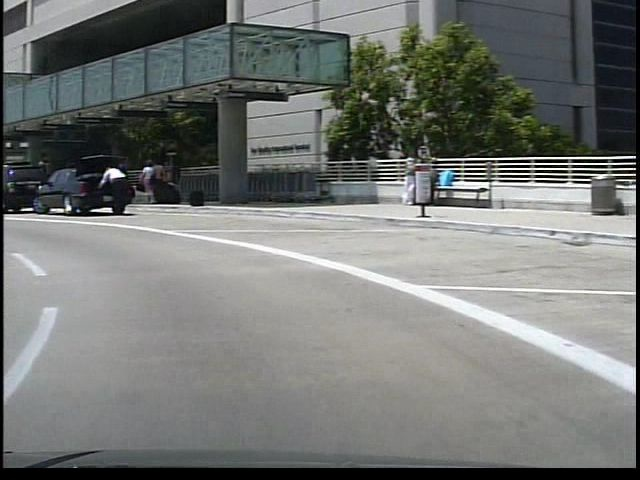person: (92, 165, 127, 221), (147, 156, 164, 208), (135, 161, 146, 202)
